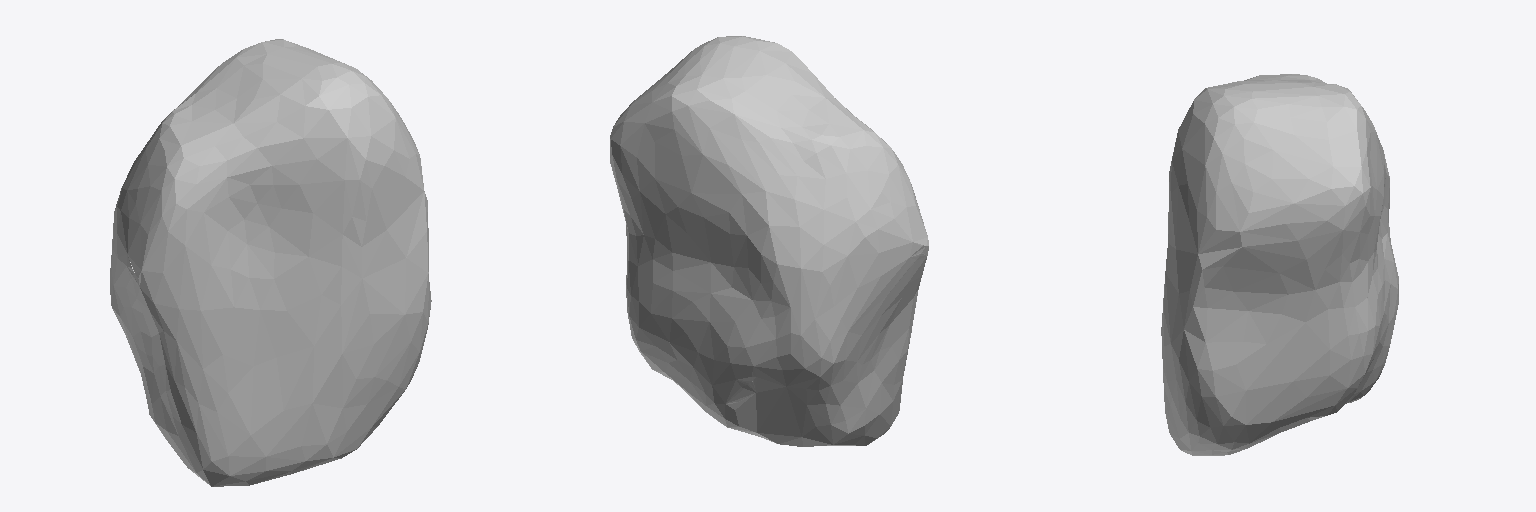
File: M_Rock_01.OBJ
3 views of the same model, side by side, from view 1: azimuth 30°, elevation 25°; view 2: azimuth 150°, elevation 25°; view 3: azimuth 270°, elevation 25° (orthographic).
Visible parts, largest first — view 1: Group38589; view 2: Group38589; view 3: Group38589.
Part boxes in pixels (x1,y1,x2,y2): Group38589: (110, 39, 431, 486); Group38589: (610, 36, 928, 446); Group38589: (1161, 74, 1398, 455).
Bounding box in the file's own units: 1.99 × 2.55 × 1.46.